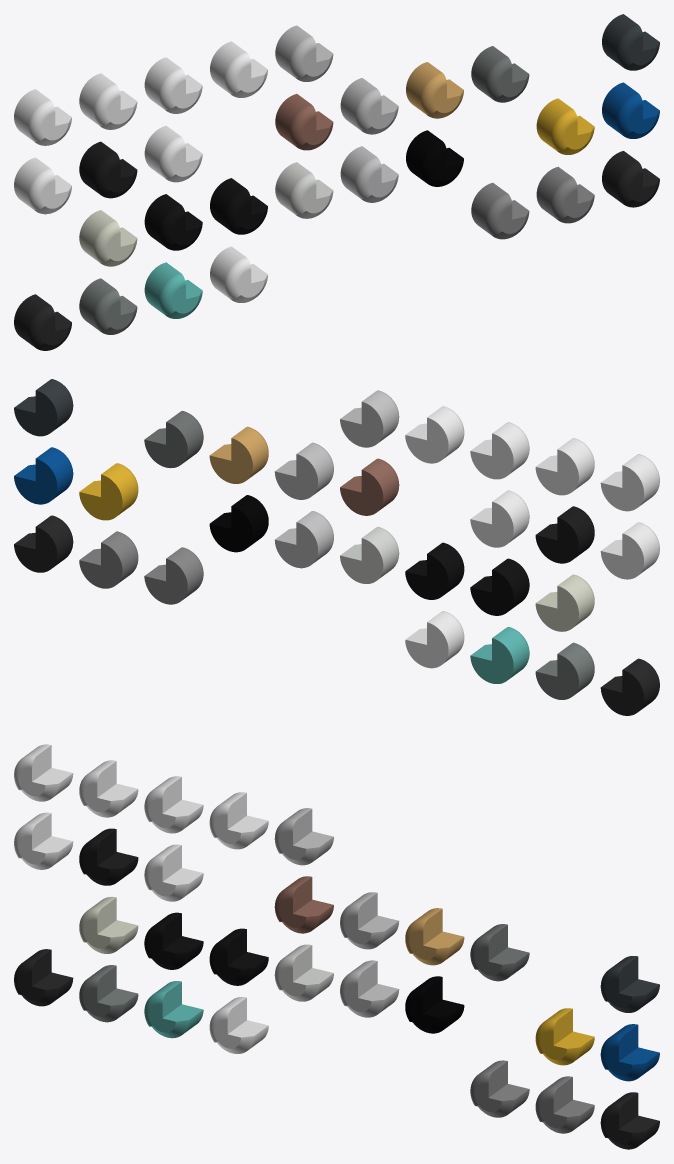
Rendered from materials.gltf.
3 renders of one model, top to bottom at view 1: azimuth 30°, elevation 25°; view 2: azimuth 150°, elevation 25°; view 3: azimuth 330°, elevation 25°, orthographic.
Parts seen in each view (by area): view 1: SPRAYPAINTED_WHITE, TITANIUM, BEADBLASTED_ALUMINIUM, PAINT_LIGHT_GREY, POLISHED_STEEL, PVC, POWDERCOAT_WHITE, ANODIZED_CLEAR, ANODIZED_VIBRANT_BLUE, BEADBLASTED_STEEL, POWDERCOAT_BLACK, HARDCHROMATIC (+16 smaller); view 2: PVC, PA630GF, HDPE, GOLD, COPPER, PLASTIC_BLACK, PAINT_GREY, ANODIZED_CHARCOAL_GREY, BEADBLASTED_STEEL, POWDERCOAT_WHITE, BLACK_OXIDE, ANODIZED_BLACK (+16 smaller); view 3: PLASTIC_BLUE, BLACK_OXIDE, COPPER, STEEL, SPRAYPAINTED_WHITE, TITANIUM, PAINT_GREY, ANODIZED_BLACK, BEADBLASTED_STEEL, POLISHED_STEEL, HARDCHROMATIC, BRASS (+16 smaller).
Part boxes in pixels (box(x1,y1,x2,y2)): SPRAYPAINTED_WHITE: box(275, 162, 333, 218); TITANIUM: box(340, 78, 398, 134); BEADBLASTED_ALUMINIUM: box(536, 166, 594, 223); PAINT_LIGHT_GREY: box(471, 46, 529, 102); POLISHED_STEEL: box(144, 125, 202, 182); PVC: box(79, 73, 137, 129); POWDERCOAT_WHITE: box(79, 210, 137, 266); ANODIZED_CLEAR: box(79, 278, 137, 334); ANODIZED_VIBRANT_BLUE: box(144, 262, 202, 318); BEADBLASTED_STEEL: box(471, 182, 529, 239); POWDERCOAT_BLACK: box(144, 194, 202, 250); HARDCHROMATIC: box(340, 146, 398, 202); PVC: box(535, 438, 594, 495); PA630GF: box(600, 522, 659, 579); HDPE: box(470, 422, 529, 479); GOLD: box(79, 463, 138, 520); COPPER: box(340, 458, 399, 515); PLASTIC_BLACK: box(535, 506, 594, 563); PAINT_GREY: box(14, 379, 73, 436); ANODIZED_CHARCOAL_GREY: box(405, 611, 464, 668); BEADBLASTED_STEEL: box(144, 547, 203, 604); POWDERCOAT_WHITE: box(535, 574, 594, 631); BLACK_OXIDE: box(14, 515, 73, 572); ANODIZED_BLACK: box(600, 658, 659, 715); PLASTIC_BLUE: box(600, 1024, 659, 1081); BLACK_OXIDE: box(600, 1092, 659, 1149); COPPER: box(274, 876, 333, 933); STEEL: box(274, 808, 333, 865); SPRAYPAINTED_WHITE: box(274, 944, 333, 1001); TITANIUM: box(340, 892, 399, 949); PAINT_GREY: box(600, 956, 659, 1012); ANODIZED_BLACK: box(14, 949, 73, 1006); BEADBLASTED_STEEL: box(470, 1060, 529, 1117); POLISHED_STEEL: box(144, 844, 203, 901); HARDCHROMATIC: box(340, 960, 399, 1017); BRASS: box(405, 908, 464, 965).
Bounding box in the file's own units: 37.47 × 14.21 × 2.
